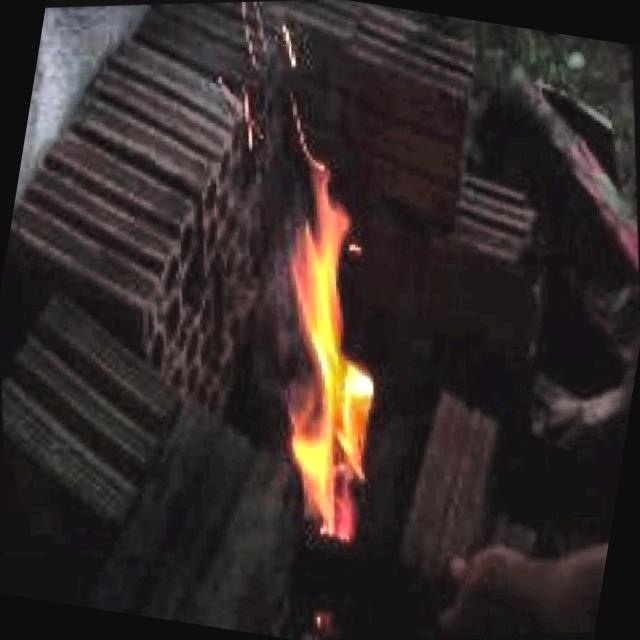fire: (173, 101, 490, 586)
